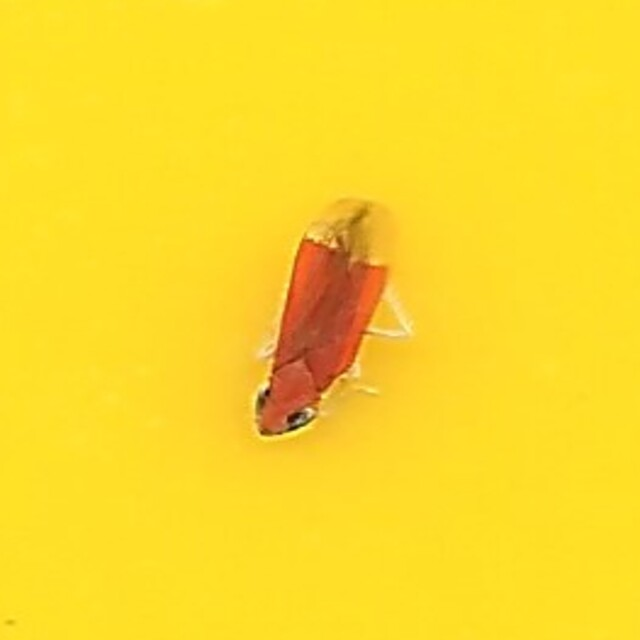Hemiptera: (243, 201, 397, 439)
